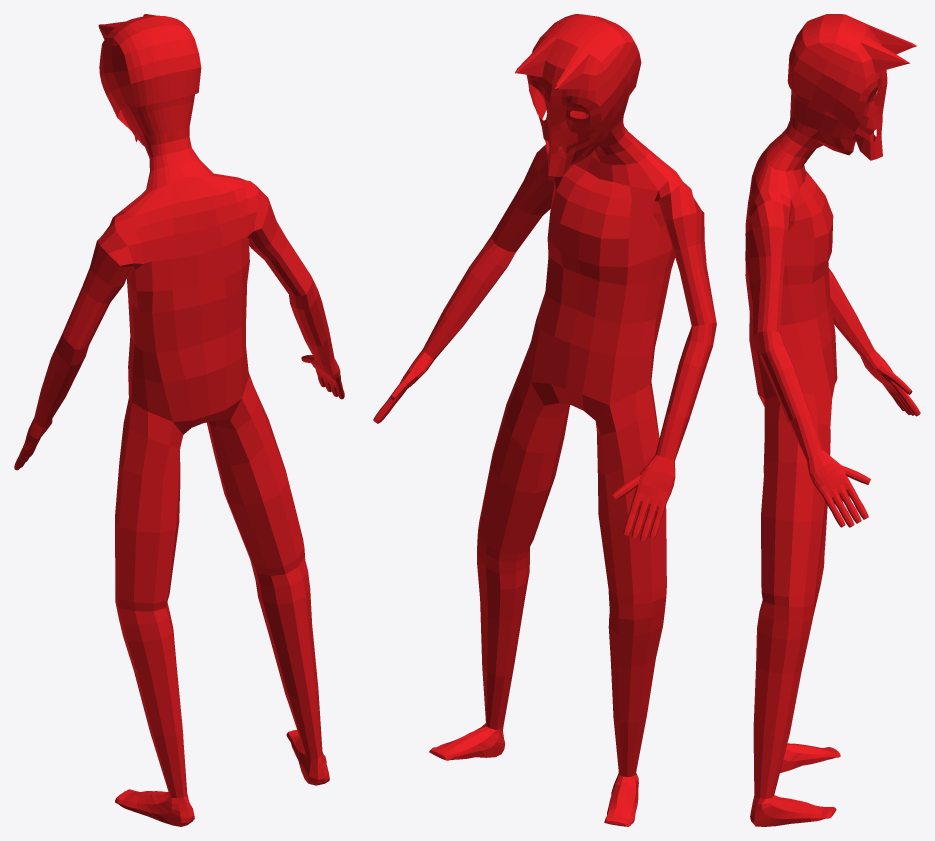
The model's file is reposoE_000290.obj.
3 views of the same model, side by side, from view 1: azimuth 30°, elevation 25°; view 2: azimuth 150°, elevation 25°; view 3: azimuth 270°, elevation 25° (orthographic). The views are drawn at different scales.
Visible parts, largest first — view 1: Plane.002_Plane.001; view 2: Plane.002_Plane.001; view 3: Plane.002_Plane.001.
Boxes of the visible parts, x1,y1,x2,y2 form: Plane.002_Plane.001: [14, 14, 344, 826]; Plane.002_Plane.001: [373, 14, 716, 826]; Plane.002_Plane.001: [745, 14, 920, 826].
Bounding box in the file's own units: 2.93 × 7.18 × 1.51.
